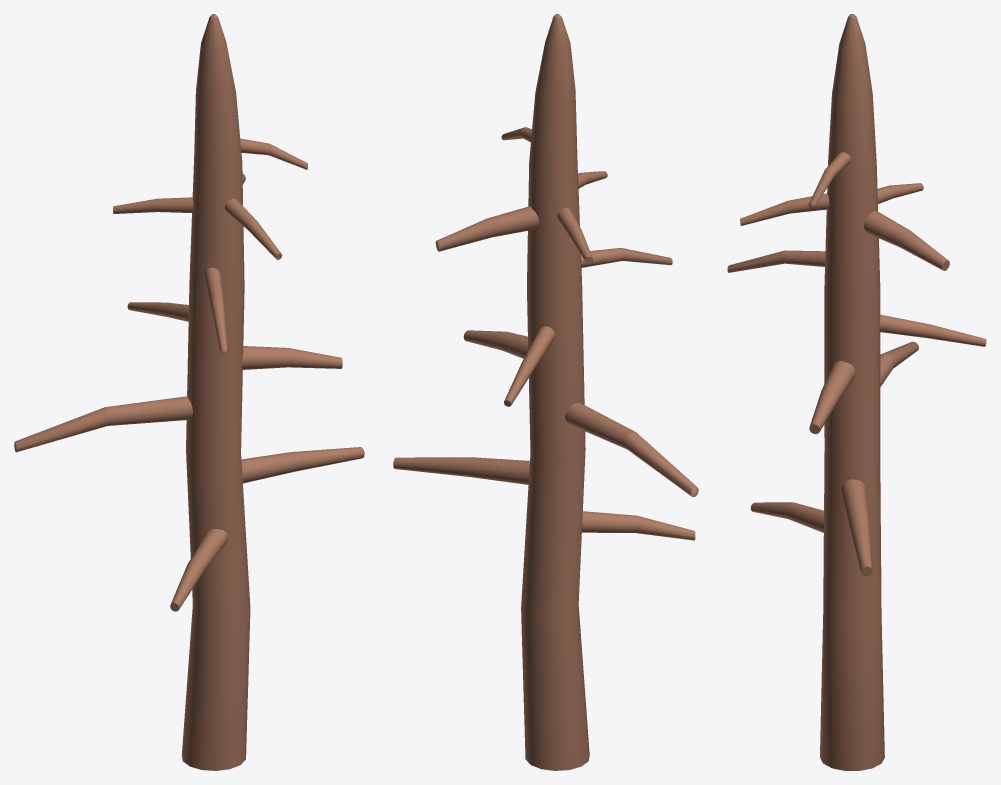
File: Spruce_Dry_LightBrown.fbx
The picture shows the model from 3 angles, left to right: view 1: azimuth 30°, elevation 25°; view 2: azimuth 150°, elevation 25°; view 3: azimuth 270°, elevation 25°; orthographic projection.
Visible parts, largest first — view 1: Cylinder.916, Cylinder.914, Cylinder.915, Cylinder.913, Cylinder.912, Cylinder.910, Cylinder.907, Cylinder.906, Cylinder.909, Cylinder.908; view 2: Cylinder.916, Cylinder.914, Cylinder.915, Cylinder.911, Cylinder.912, Cylinder.909, Cylinder.913, Cylinder.910, Cylinder.907; view 3: Cylinder.916, Cylinder.915, Cylinder.911, Cylinder.909, Cylinder.913, Cylinder.912, Cylinder.910, Cylinder.906, Cylinder.914, Cylinder.908, Cylinder.907.
Boxes of the visible parts, x1,y1,x2,y2 form: Cylinder.916: (181, 14, 250, 770); Cylinder.914: (14, 396, 192, 452); Cylinder.915: (241, 447, 364, 483); Cylinder.913: (241, 346, 342, 369); Cylinder.912: (170, 529, 228, 611); Cylinder.910: (204, 267, 227, 354); Cylinder.907: (113, 197, 193, 213); Cylinder.906: (224, 198, 282, 259); Cylinder.909: (127, 302, 188, 321); Cylinder.908: (240, 138, 307, 169); Cylinder.916: (521, 14, 589, 770); Cylinder.914: (564, 402, 698, 496); Cylinder.915: (393, 457, 529, 484); Cylinder.911: (435, 206, 538, 251); Cylinder.912: (582, 511, 695, 540); Cylinder.909: (504, 326, 555, 406); Cylinder.913: (463, 330, 528, 358); Cylinder.910: (581, 248, 672, 267); Cylinder.907: (557, 207, 592, 263); Cylinder.916: (820, 14, 884, 770); Cylinder.915: (841, 479, 872, 576); Cylinder.911: (864, 210, 949, 270); Cylinder.909: (879, 314, 986, 346); Cylinder.913: (809, 361, 855, 433); Cylinder.912: (750, 502, 823, 532); Cylinder.910: (727, 250, 825, 272); Cylinder.906: (740, 193, 829, 225); Cylinder.914: (880, 341, 918, 386); Cylinder.908: (808, 152, 850, 208); Cylinder.907: (877, 183, 923, 203).
Size of the model in its own units: 318 by 694 by 219.
